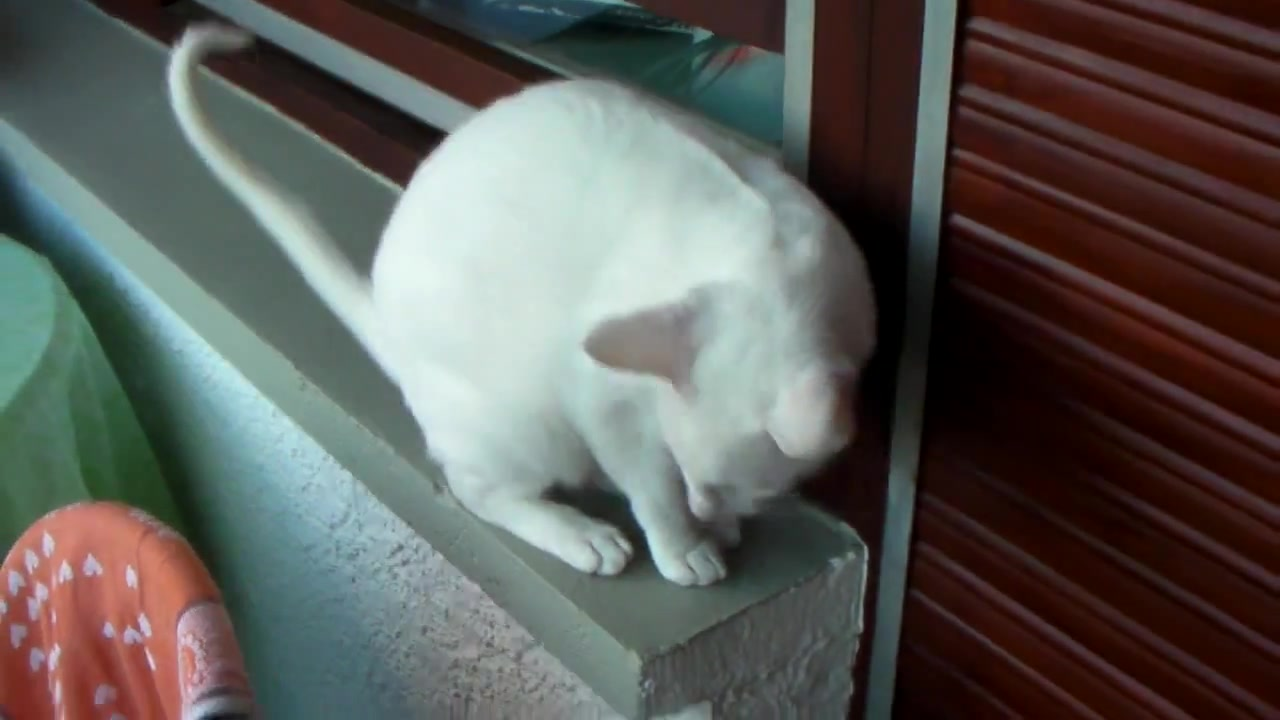cat: (166, 15, 879, 590)
